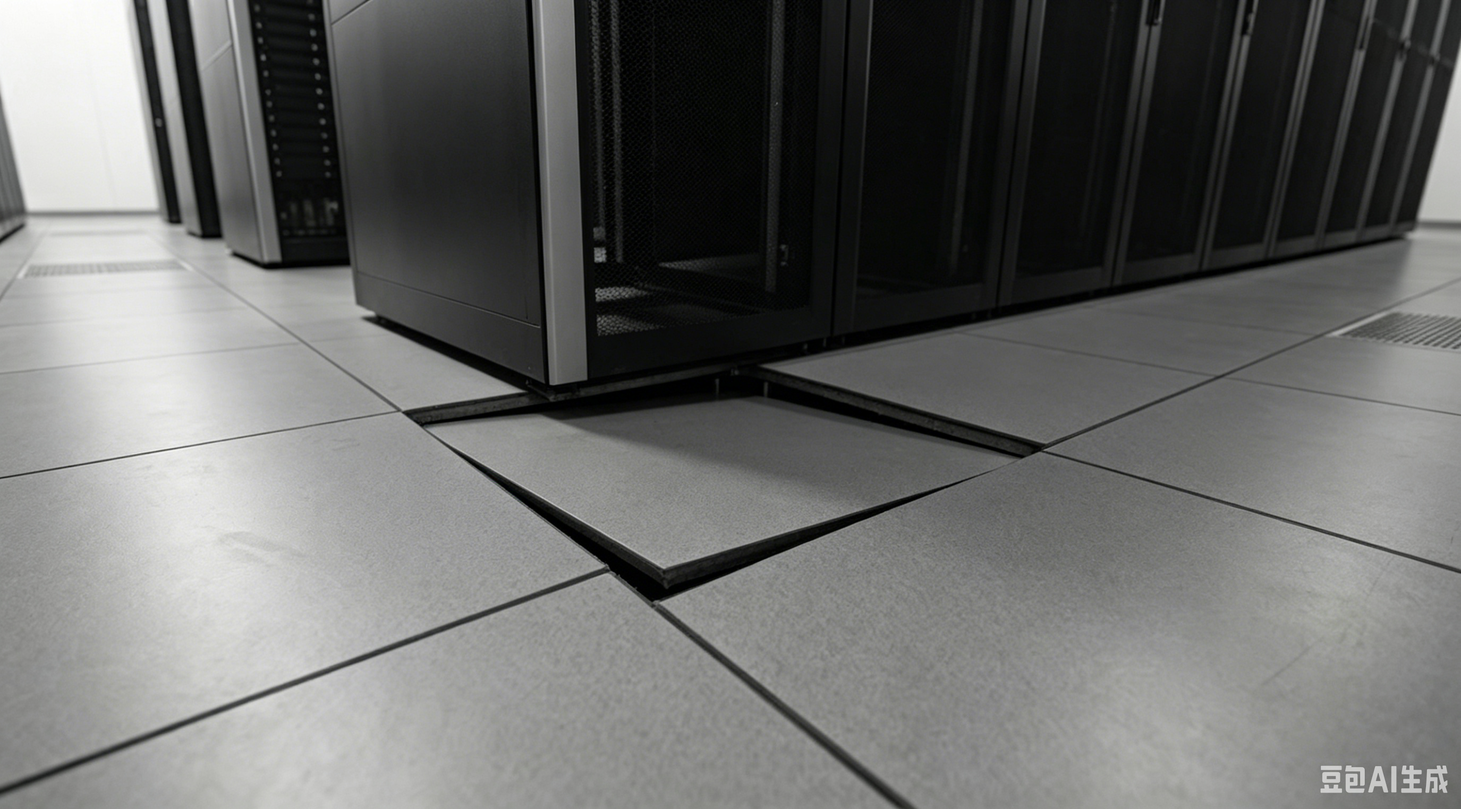floor_defect: (389, 344, 1050, 610)
